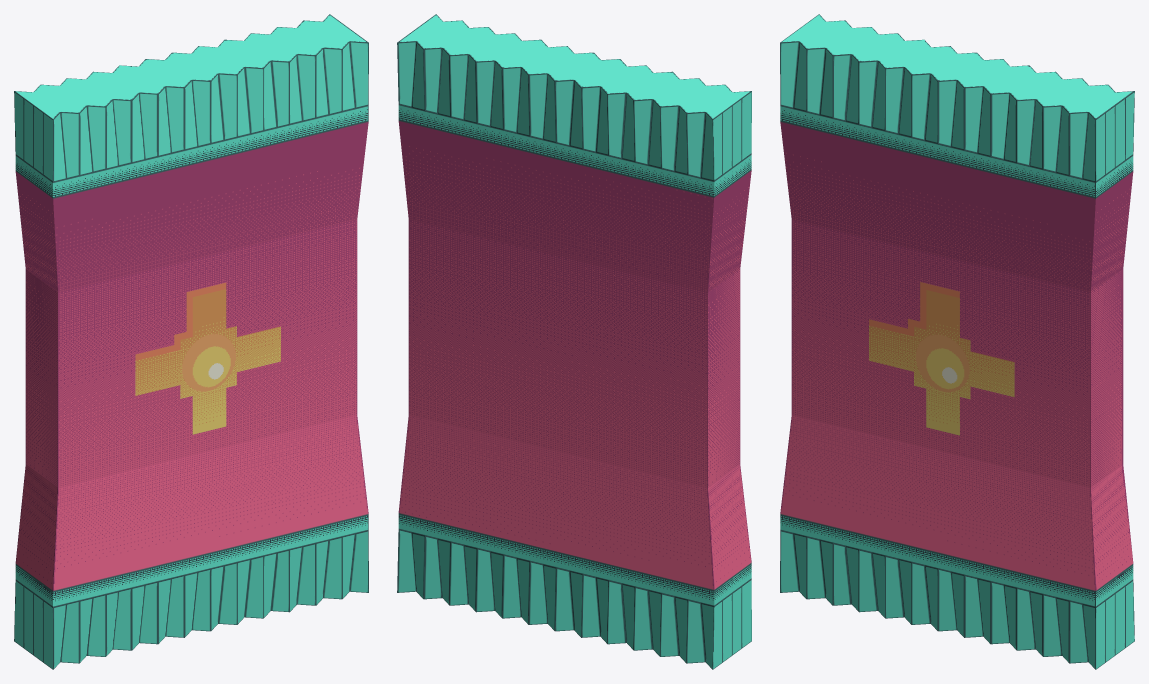
Rendered from cartinhapowerup1.fbx.
3 views of the same model, side by side, from view 1: azimuth 30°, elevation 25°; view 2: azimuth 150°, elevation 25°; view 3: azimuth 330°, elevation 25° (orthographic).
Parts seen in each view (by area): view 1: Cube; view 2: Cube; view 3: Cube.
Boxes of the visible parts, bbox=[...] form: Cube: bbox=[14, 14, 368, 669]; Cube: bbox=[397, 14, 751, 669]; Cube: bbox=[780, 14, 1134, 669].
Size of the model in its own units: 145 by 242 by 31.17.
